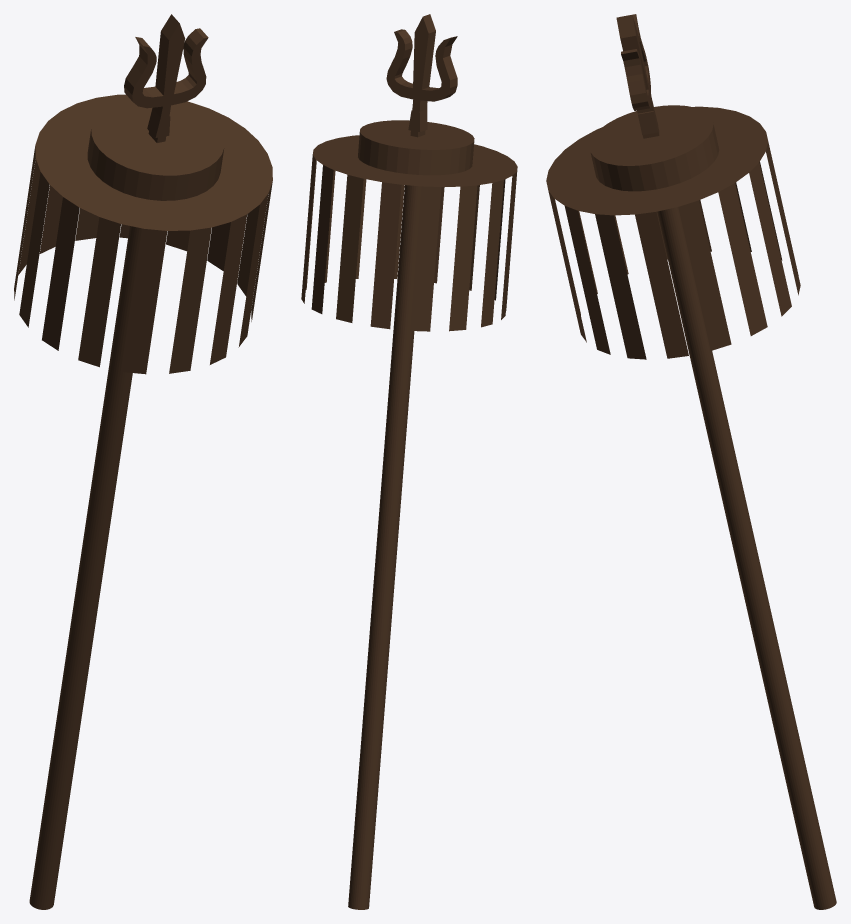
File: Tug.fbx
3 renders of one model, left to right at view 1: azimuth 30°, elevation 25°; view 2: azimuth 150°, elevation 25°; view 3: azimuth 270°, elevation 25°, orthographic. The views are drawn at different scales.
Visible parts, largest first — view 1: Tug; view 2: Tug; view 3: Tug.
Boxes of the visible parts, x1,y1,x2,y2 form: Tug: (14,14,272,909); Tug: (301,14,517,909); Tug: (546,14,836,909).
Bounding box in the file's own units: 43.67 × 189 × 54.99.
